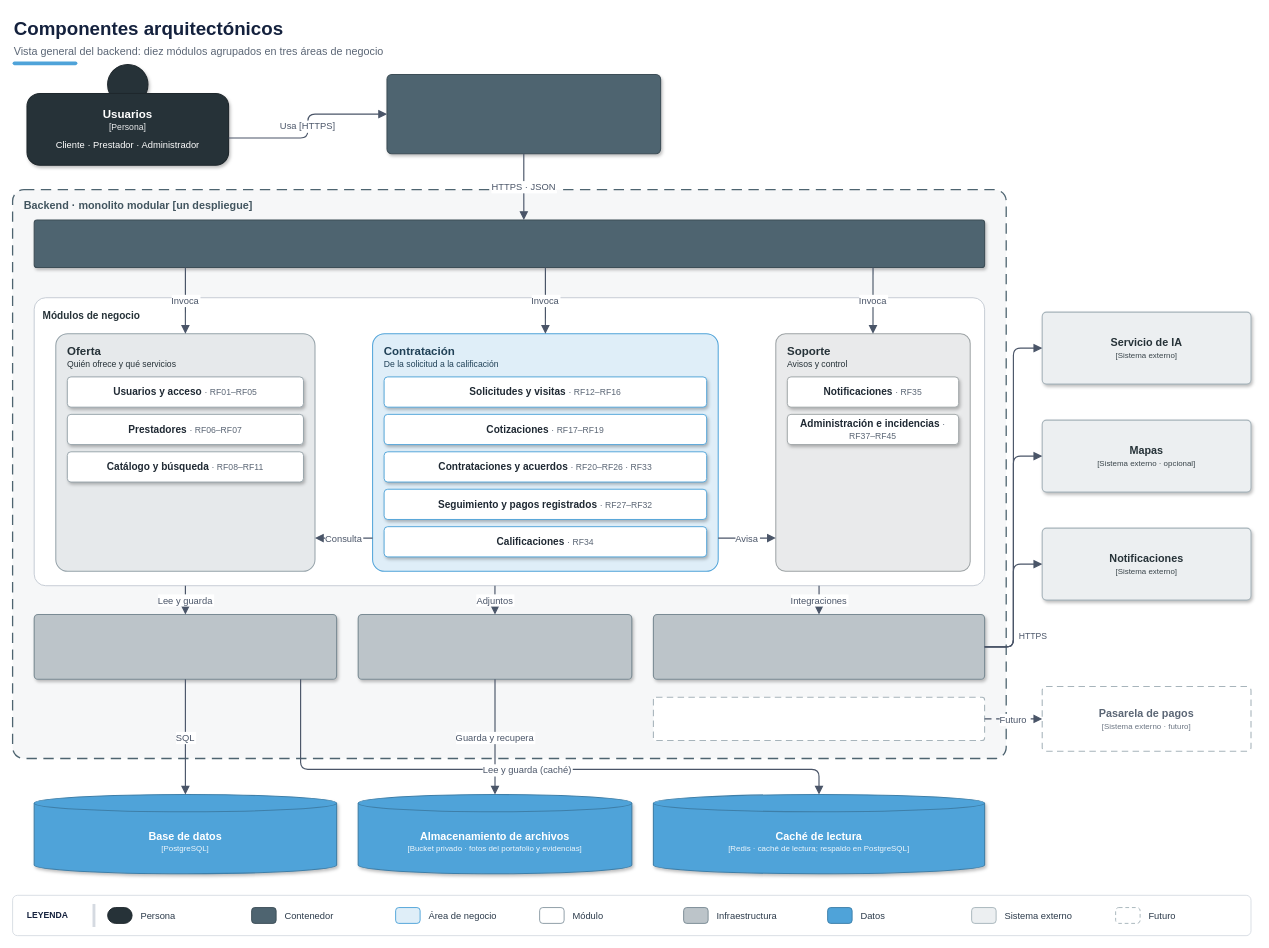
The diagram is 1269 pixels wide and 948 high, and some of its shapes have lost their labels. The shapes that lost their labels are listed below. From the top down, each one's centre as x and y in pixels, then its label:
At point (524, 115): "Aplicación web responsive [React + Vite] Celular, tableta y computadora.".
At point (509, 244): "API REST [Componente · presentación]".
At point (185, 648): "Repositorios y transacciones [Infraestructura]".
At point (495, 648): "Gestor de archivos [Infraestructura]".
At point (819, 648): "Adaptadores externos [Infraestructura · tiempo límite y reintentos]".
At point (819, 718): "Cobros de la plataforma [futuro]".
